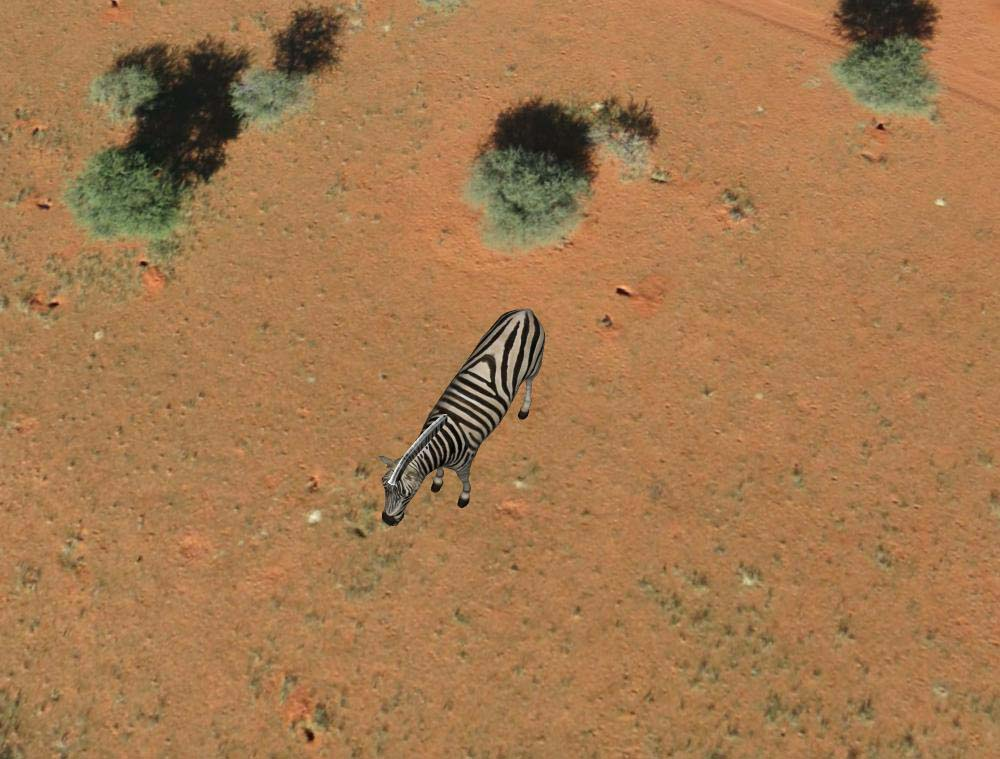zebra: (377, 304, 548, 534)
